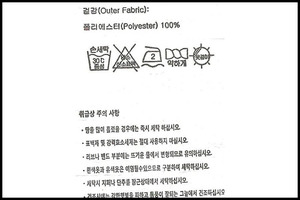KR_gentle_wring: (163, 45, 190, 68)
KR_hand_wash_30_neutral: (83, 43, 112, 73)
KR_hang_dry_in_shade: (189, 43, 216, 70)
KR_no_bleach: (111, 43, 140, 72)
